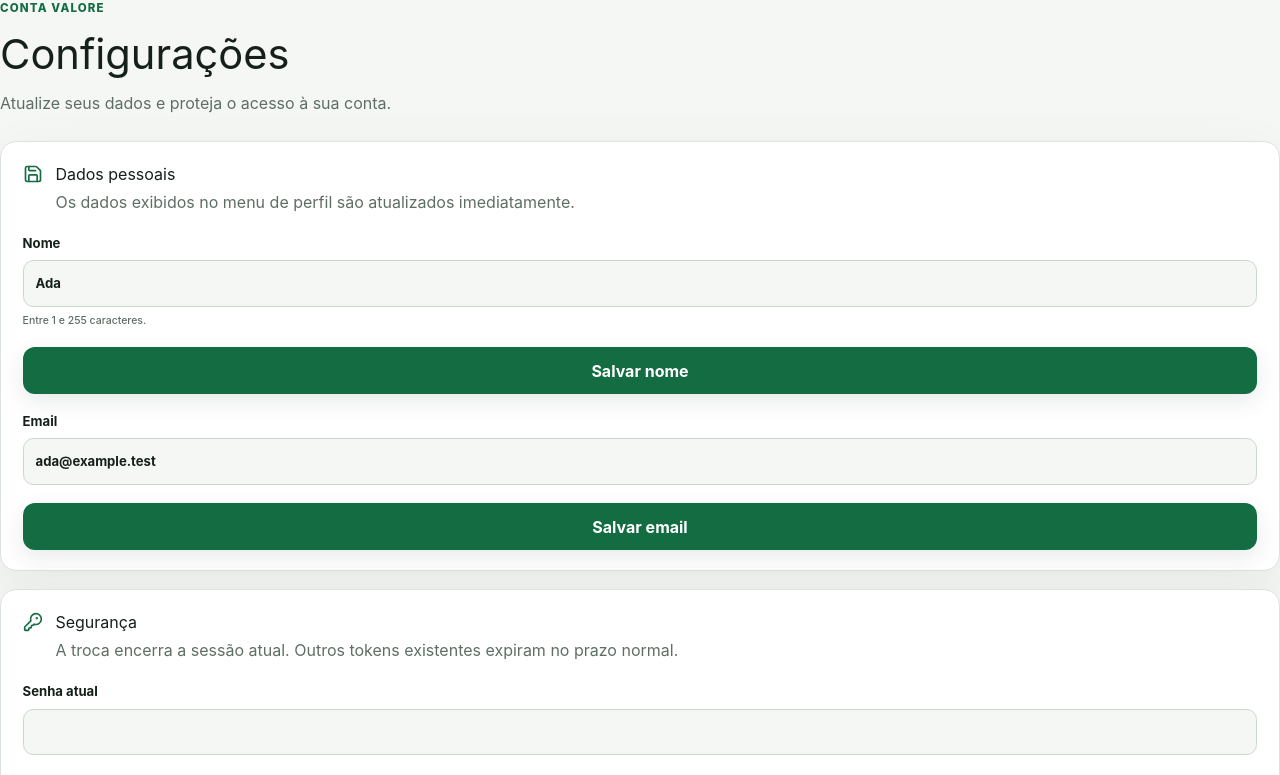
Test: configurações da conta › atualiza nome e email exibidos sem renderizar resposta técnica
The width and height of the screenshot is (1280, 775).
Replace the text in the field labelled "Nome Entre 1 e 255 caracteres." with " Ada Lovelace ": {"x": 640, "y": 284} [23,260,1257,307]
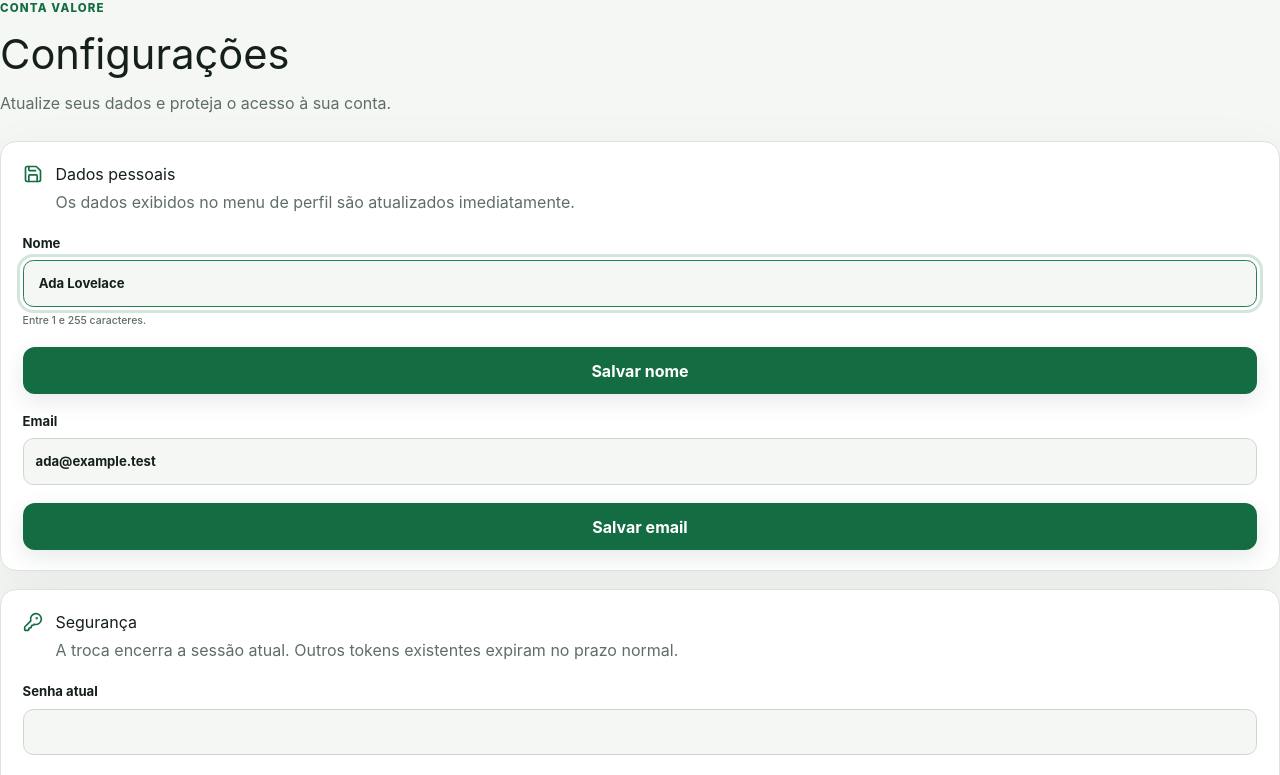
Click the button "Salvar nome": {"x": 640, "y": 371} [23,347,1257,394]
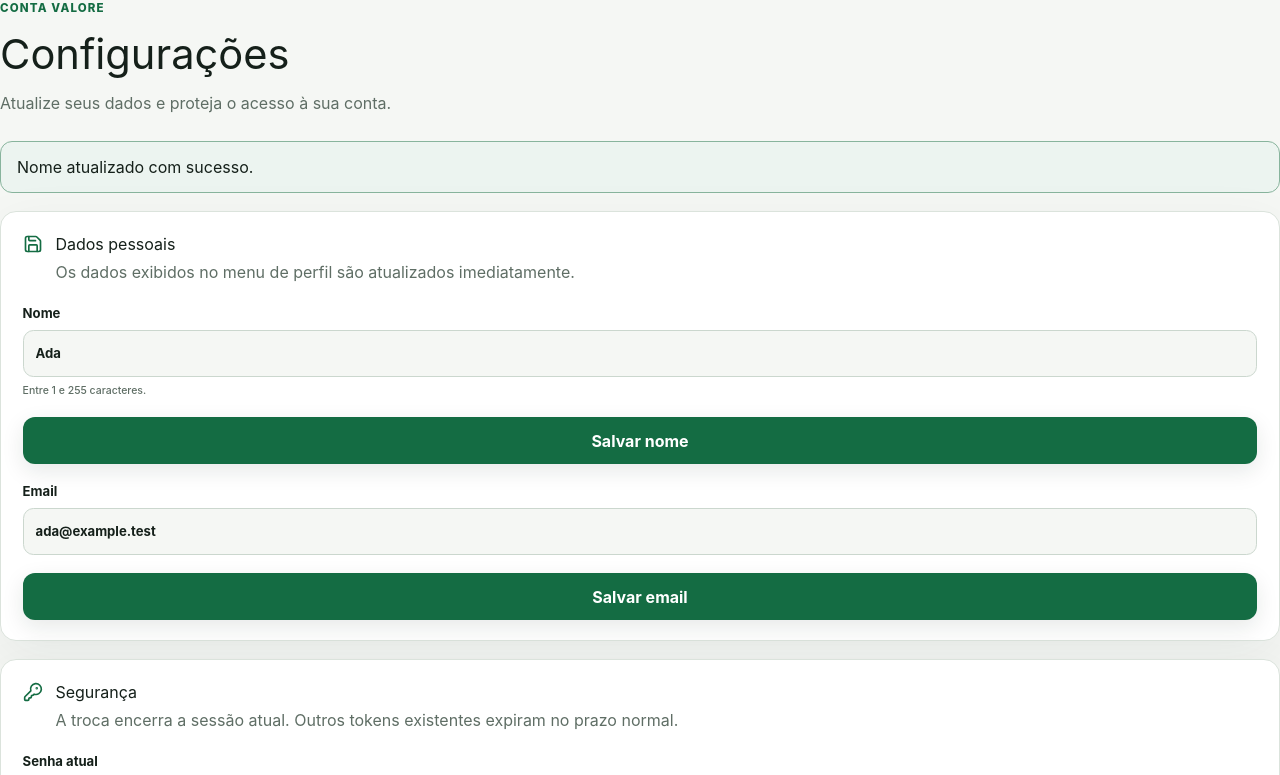
Now the text "Nome atualizado com sucesso." is shown, box [0,141,1279,193]
Replace the text in the field labelled "Email" with "NOVO@EXAMPLE.TEST": {"x": 640, "y": 532} [23,508,1257,555]
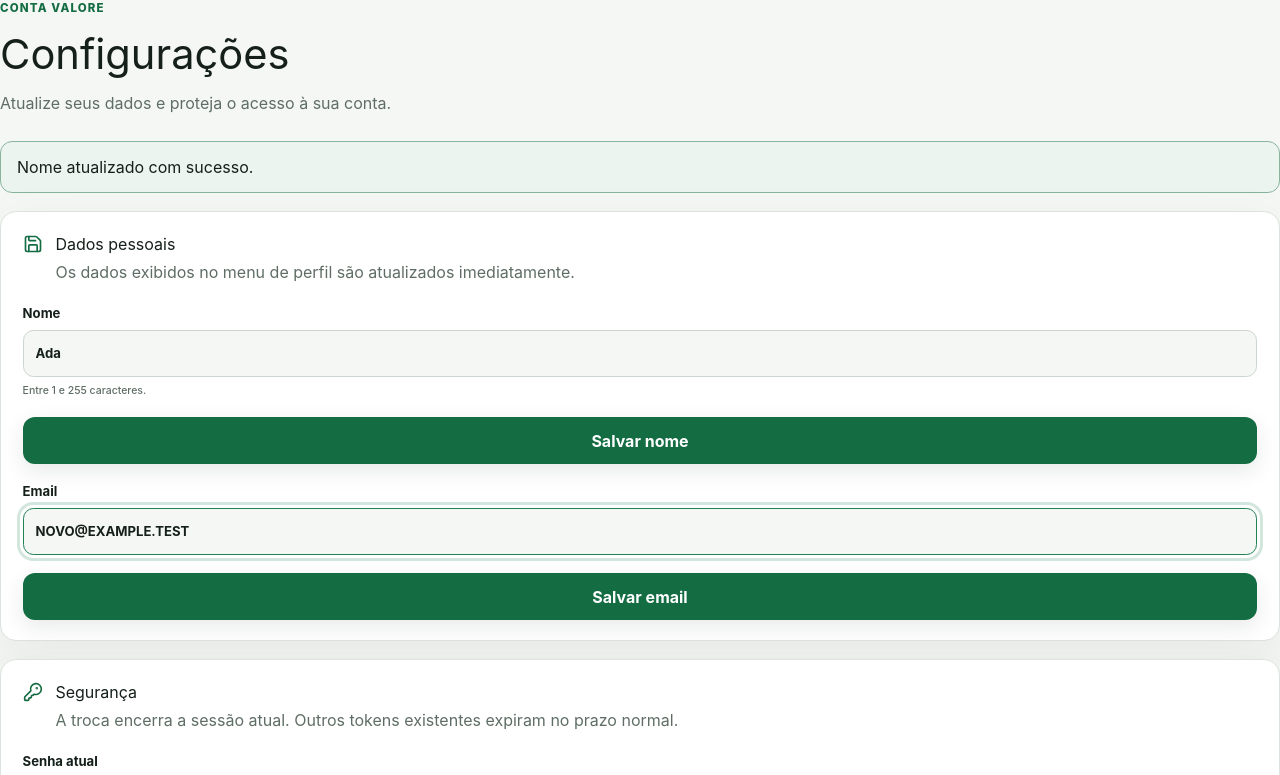
Click the button "Salvar email": {"x": 640, "y": 597} [23,573,1257,620]
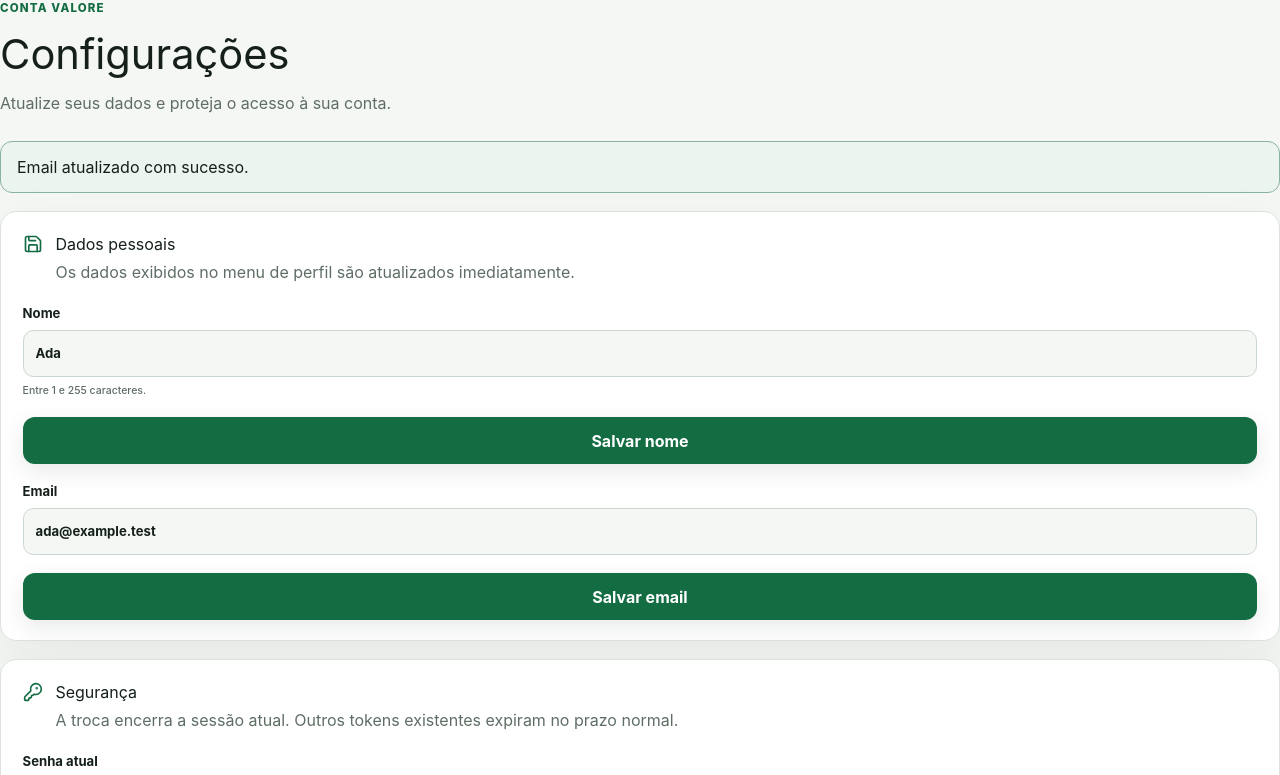
Now the text "Email atualizado com sucesso." is shown, box [0,141,1279,193]
